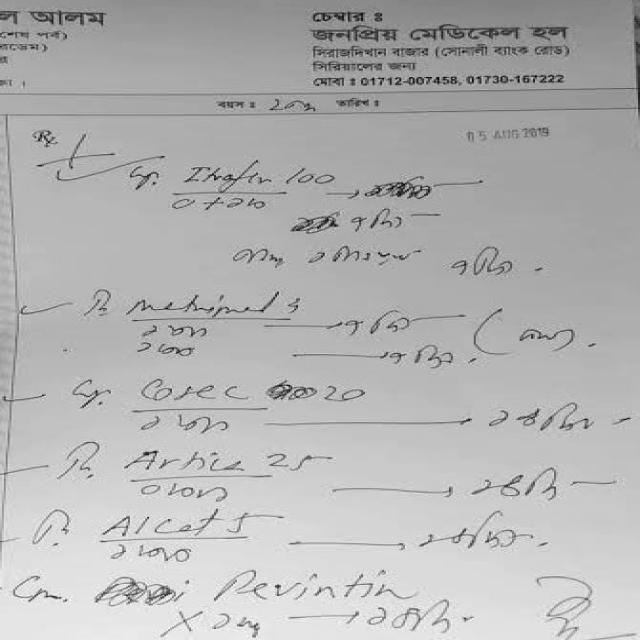medicine: (206, 566, 416, 602), (113, 445, 260, 483), (131, 375, 261, 407), (97, 510, 229, 540), (176, 159, 279, 191)
